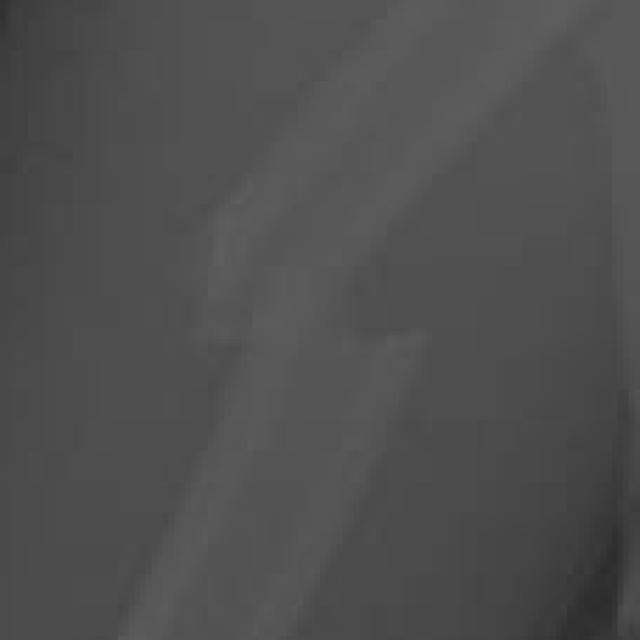fracture: (3, 1, 640, 640)
